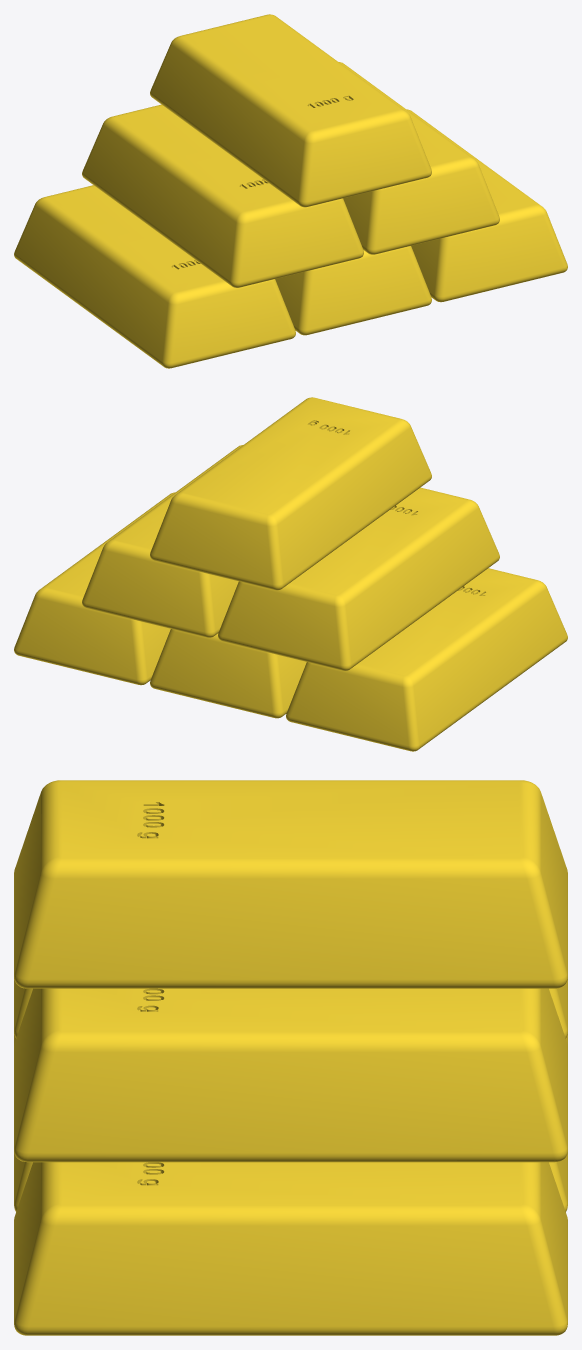
Rendered from globe.glb.
3 views of the same model, one above another, from view 1: azimuth 30°, elevation 25°; view 2: azimuth 150°, elevation 25°; view 3: azimuth 270°, elevation 25° (orthographic). The views are drawn at different scales.
Parts seen in each view (by area): view 1: Gold Bars; view 2: Gold Bars; view 3: Gold Bars.
Part boxes in pixels (bbox=[...]): Gold Bars: bbox=[14, 14, 567, 368]; Gold Bars: bbox=[14, 397, 567, 751]; Gold Bars: bbox=[14, 780, 567, 1335].
Size of the model in its own units: 0.2258 by 0.1024 by 0.15.
